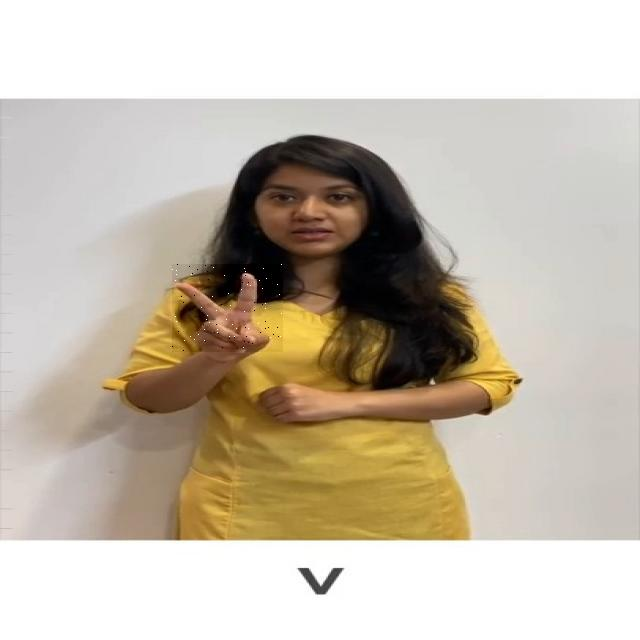V: (172, 264, 283, 352)
